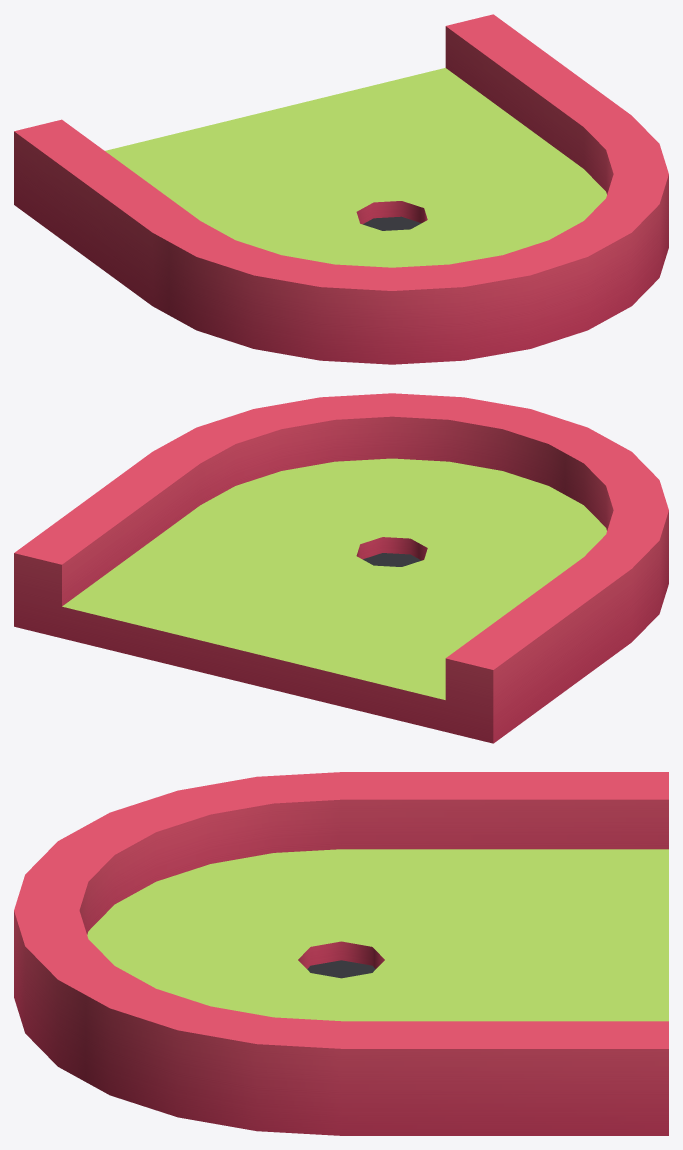
Rendered from hole-round.gltf.
3 views of the same model, one above another, from view 1: azimuth 30°, elevation 25°; view 2: azimuth 150°, elevation 25°; view 3: azimuth 270°, elevation 25° (orthographic). The views are drawn at different scales.
Parts seen in each view (by area): view 1: hole-round; view 2: hole-round; view 3: hole-round.
Boxes of the visible parts, left/top/right/bottom form: hole-round: left=14, top=14, right=668, bottom=364; hole-round: left=14, top=393, right=668, bottom=743; hole-round: left=14, top=772, right=668, bottom=1135.
Bounding box in the file's own units: 0.9999 × 0.1467 × 0.9999.
1 material, 1 textured.
